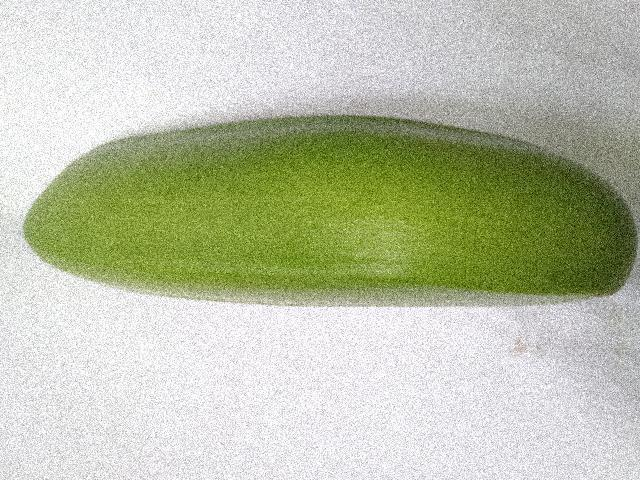freshunripe: (11, 104, 639, 323)
